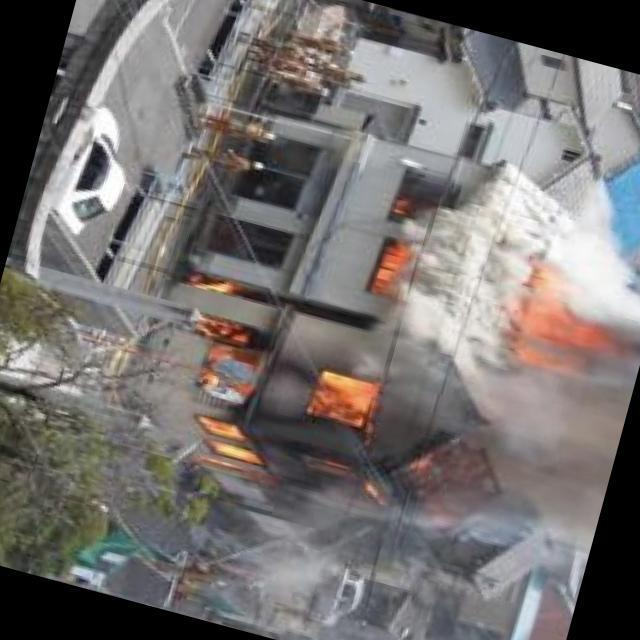Fire: (167, 316, 414, 520), (504, 253, 616, 380), (365, 226, 417, 306)
